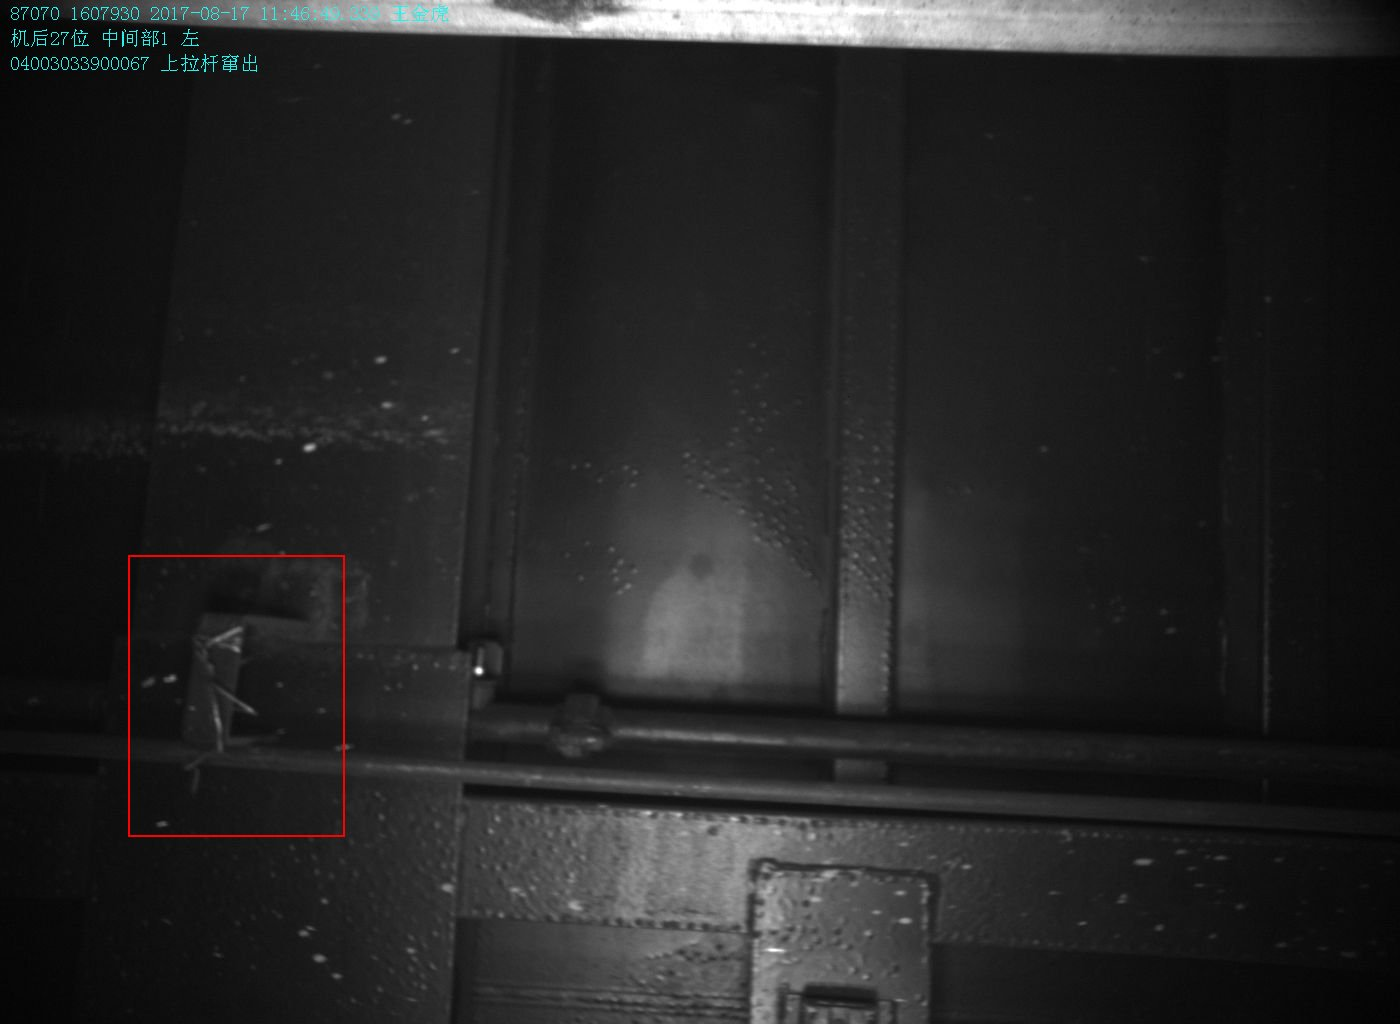Upper lever: (184, 609, 312, 773)
